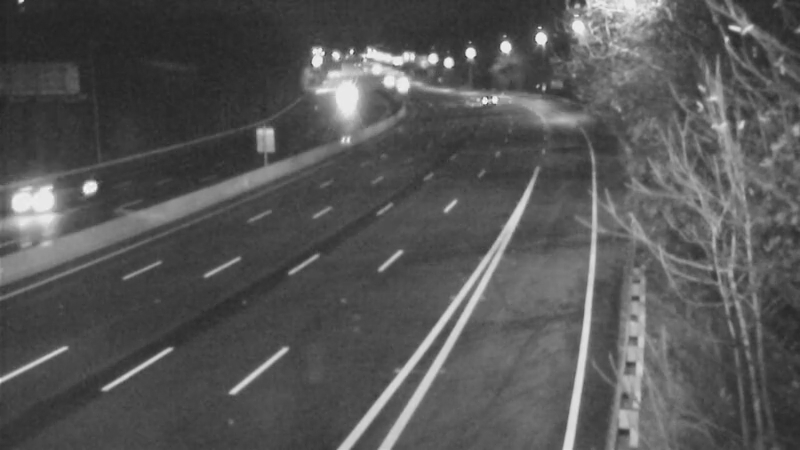vehicle: (4, 158, 84, 238), (380, 58, 430, 108), (361, 57, 411, 107), (461, 75, 511, 125), (319, 71, 369, 121)
